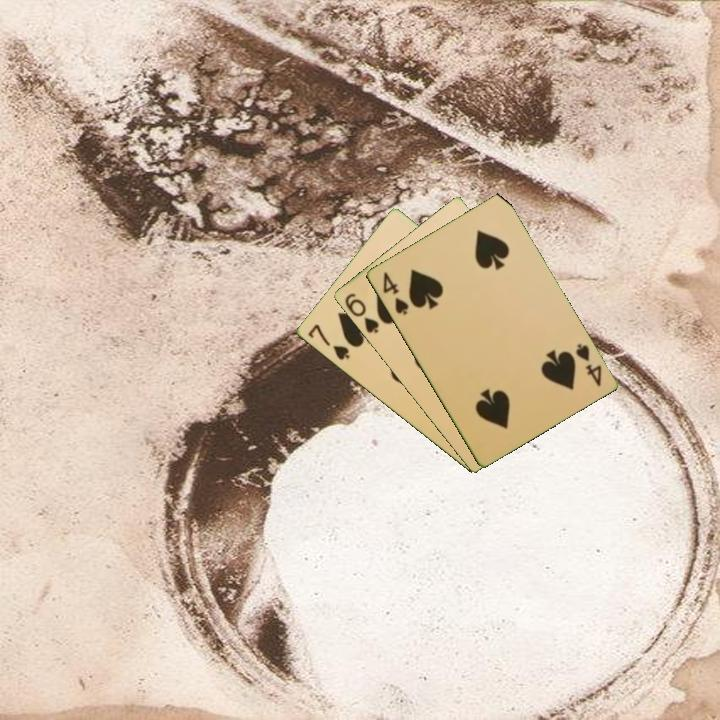4s: (379, 268, 411, 318), (572, 339, 604, 389)
6s: (341, 289, 382, 336)
7s: (304, 320, 352, 363)
